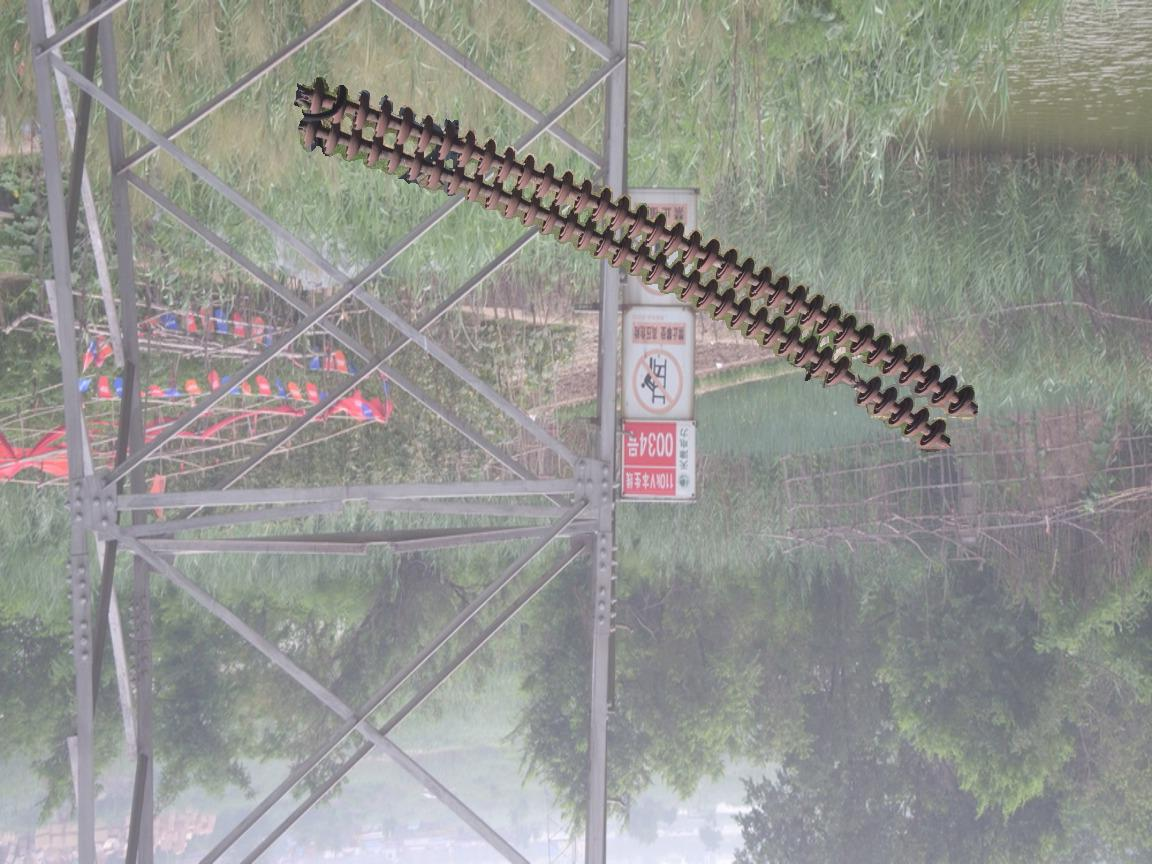insulator: (295, 76, 986, 456)
insulator_stringdrop: (822, 355, 885, 408)
